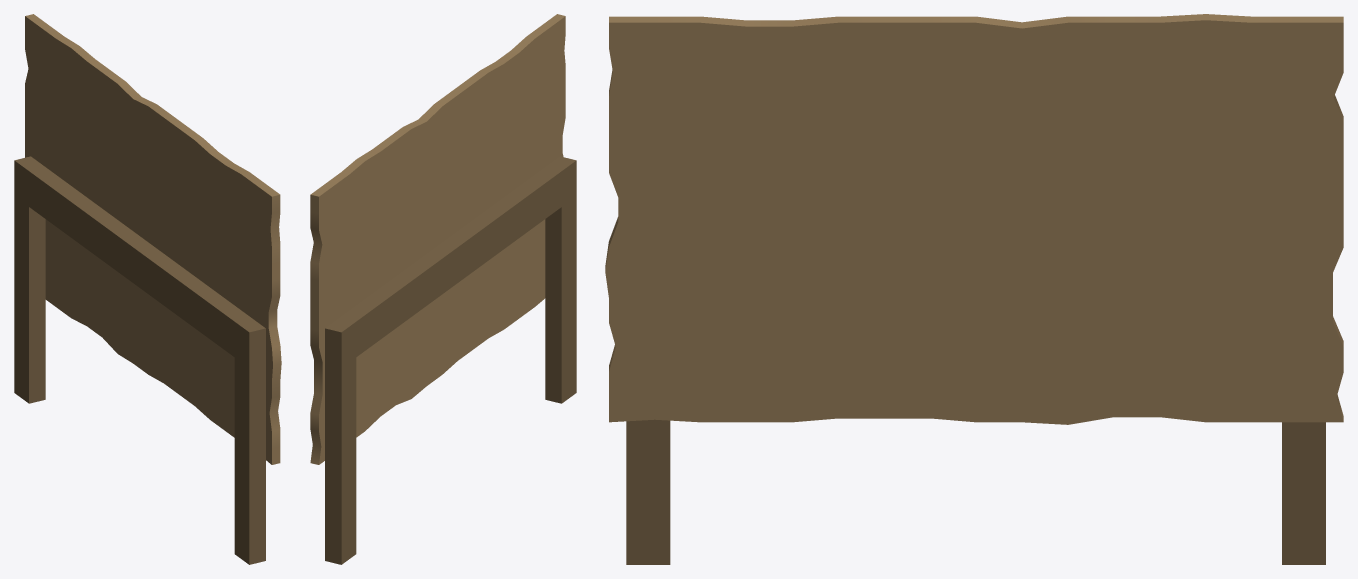
The model's file is Board.fbx.
The picture shows the model from 3 angles, left to right: view 1: azimuth 30°, elevation 25°; view 2: azimuth 150°, elevation 25°; view 3: azimuth 270°, elevation 25°; orthographic projection. The views are drawn at different scales.
Visible parts, largest first — view 1: Board_Panel, Frame_Legs; view 2: Board_Panel, Frame_Legs; view 3: Board_Panel, Frame_Legs.
Boxes of the visible parts, x1=… form: Board_Panel: x1=25, y1=14, x2=281, y2=464; Frame_Legs: x1=14, y1=156, x2=265, y2=564; Board_Panel: x1=310, y1=14, x2=565, y2=464; Frame_Legs: x1=325, y1=156, x2=576, y2=564; Board_Panel: x1=605, y1=14, x2=1343, y2=424; Frame_Legs: x1=626, y1=419, x2=1325, y2=564.
Size of the model in its own units: 5.9 by 82.75 by 100.
